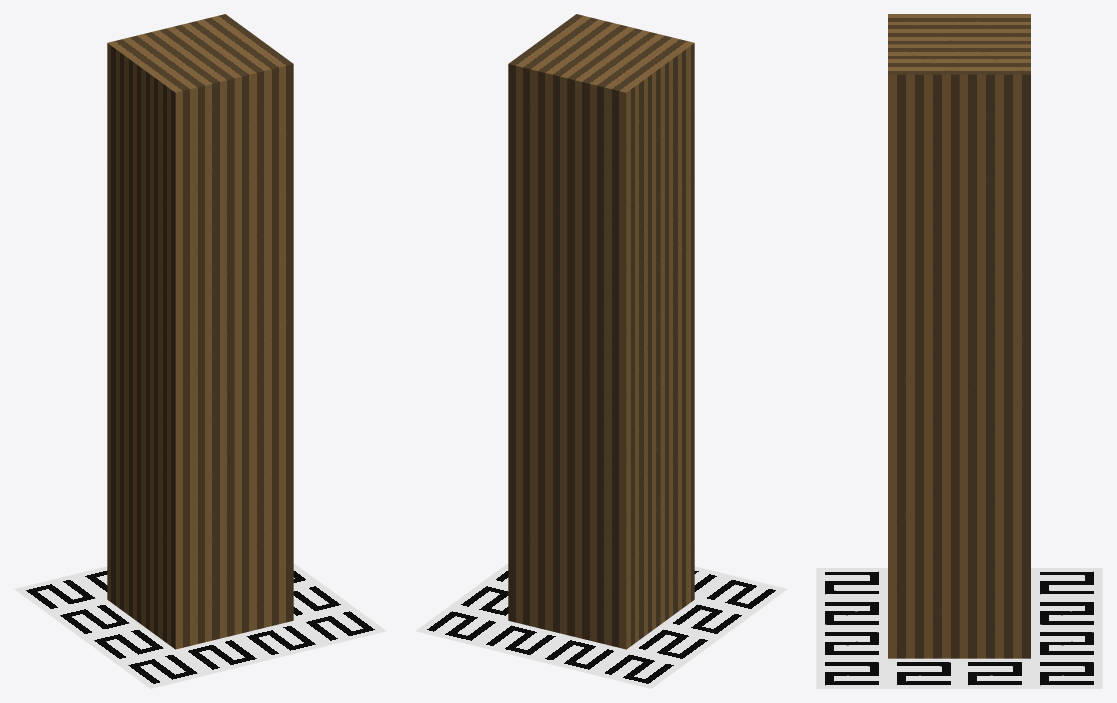
The model's file is pillar.fbx.
3 renders of one model, left to right at view 1: azimuth 30°, elevation 25°; view 2: azimuth 150°, elevation 25°; view 3: azimuth 270°, elevation 25°, orthographic. The views are drawn at different scales.
Parts seen in each view (by area): view 1: Cube; view 2: Cube; view 3: Cube.
Boxes of the visible parts, bbox=[...] form: Cube: bbox=[14, 14, 386, 688]; Cube: bbox=[415, 14, 787, 688]; Cube: bbox=[816, 14, 1102, 688].
Bounding box in the file's own units: 200 × 450 × 200.
